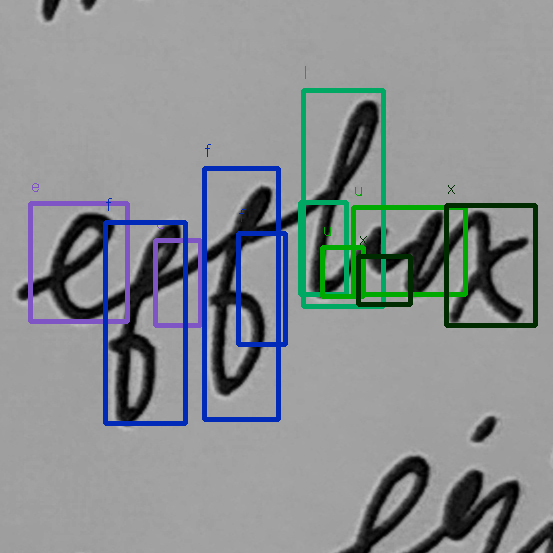e: (43, 207, 127, 326)
f: (104, 214, 186, 432), (201, 177, 278, 401)
l: (302, 96, 386, 303)
u: (364, 204, 446, 299)
x: (446, 205, 532, 332)
